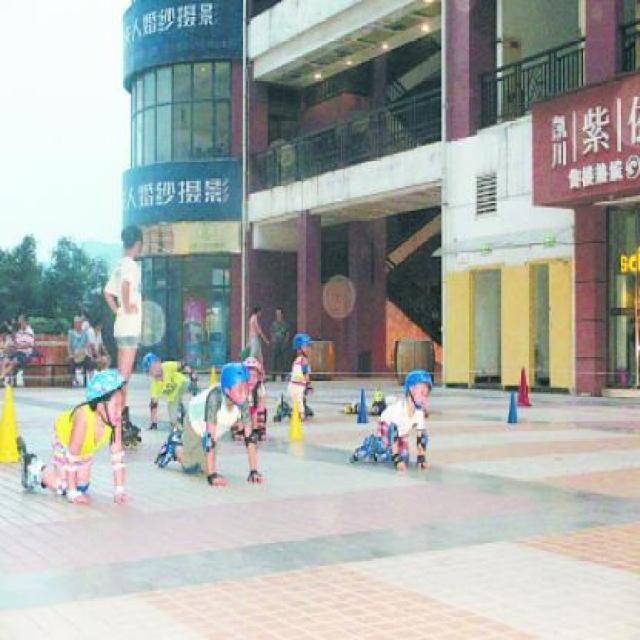fall: (275, 321, 317, 424)
